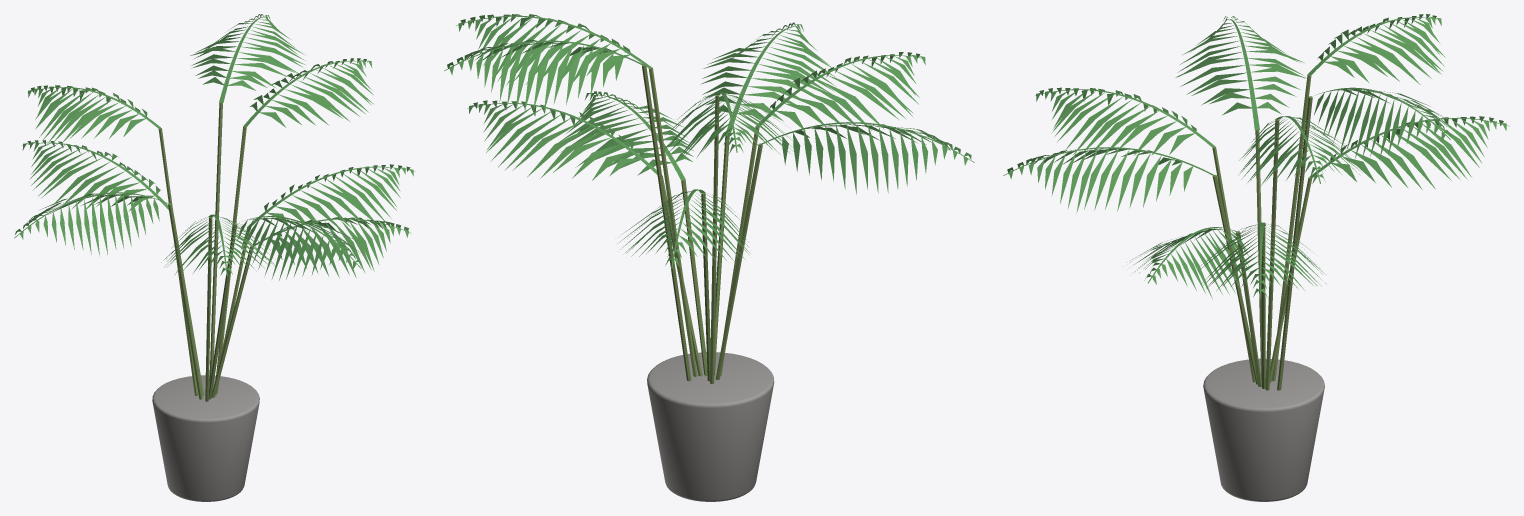
The model's file is kentia 2.glb.
3 views of the same model, side by side, from view 1: azimuth 30°, elevation 25°; view 2: azimuth 150°, elevation 25°; view 3: azimuth 270°, elevation 25° (orthographic). The views are drawn at different scales.
Visible parts, largest first — view 1: kentia_fronde, kentia_vaso, kentia_steli; view 2: kentia_fronde, kentia_vaso, kentia_steli; view 3: kentia_fronde, kentia_vaso, kentia_steli.
Part boxes in pixels (x1,y1,x2,y2): kentia_fronde: (14, 14, 415, 280); kentia_vaso: (152, 375, 259, 501); kentia_steli: (158, 102, 253, 401); kentia_fronde: (444, 14, 974, 268); kentia_vaso: (647, 352, 774, 501); kentia_steli: (642, 64, 762, 383); kentia_fronde: (1003, 14, 1509, 299); kentia_vaso: (1203, 358, 1324, 501); kentia_steli: (1212, 74, 1312, 390).
Bounding box in the file's own units: 3 × 2.7 × 2.8.
